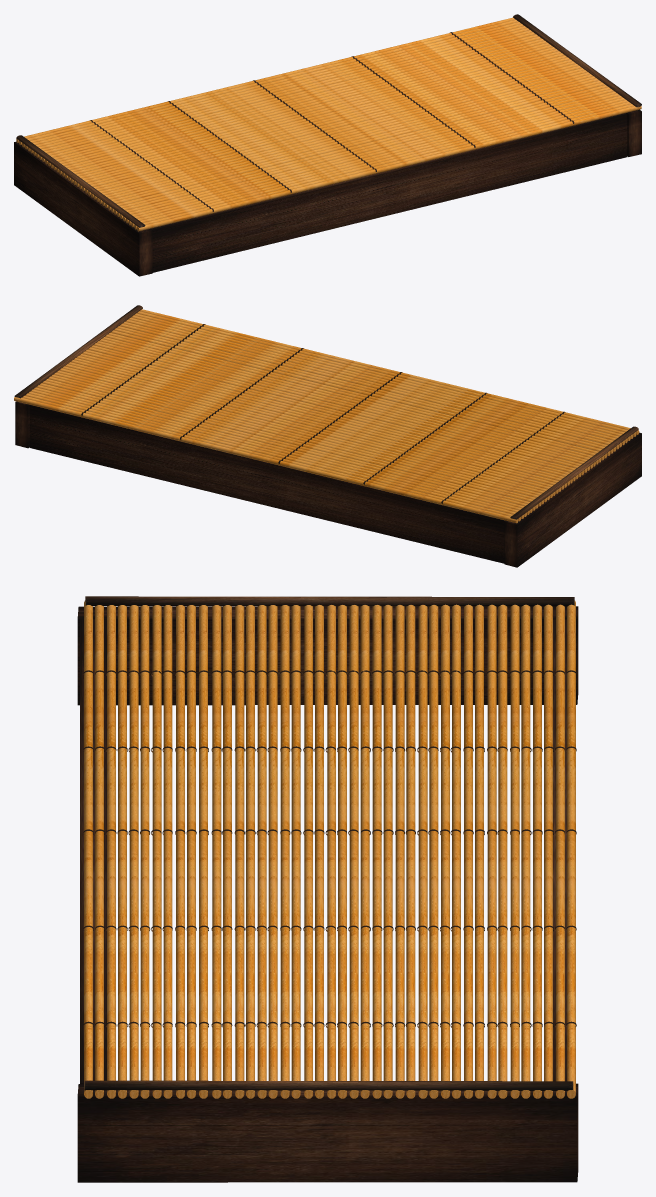
Rendered from _atag.FBX.
3 views of the same model, one above another, from view 1: azimuth 30°, elevation 25°; view 2: azimuth 150°, elevation 25°; view 3: azimuth 270°, elevation 25° (orthographic). The views are drawn at different scales.
Visible parts, largest first — view 1: Box001; view 2: Box001; view 3: Box001.
Boxes of the visible parts, x1,y1,x2,y2 form: Box001: (14,14,641,276); Box001: (14,305,641,567); Box001: (77,596,578,1182).
Size of the model in its own units: 73.7 by 6.94 by 31.7.
